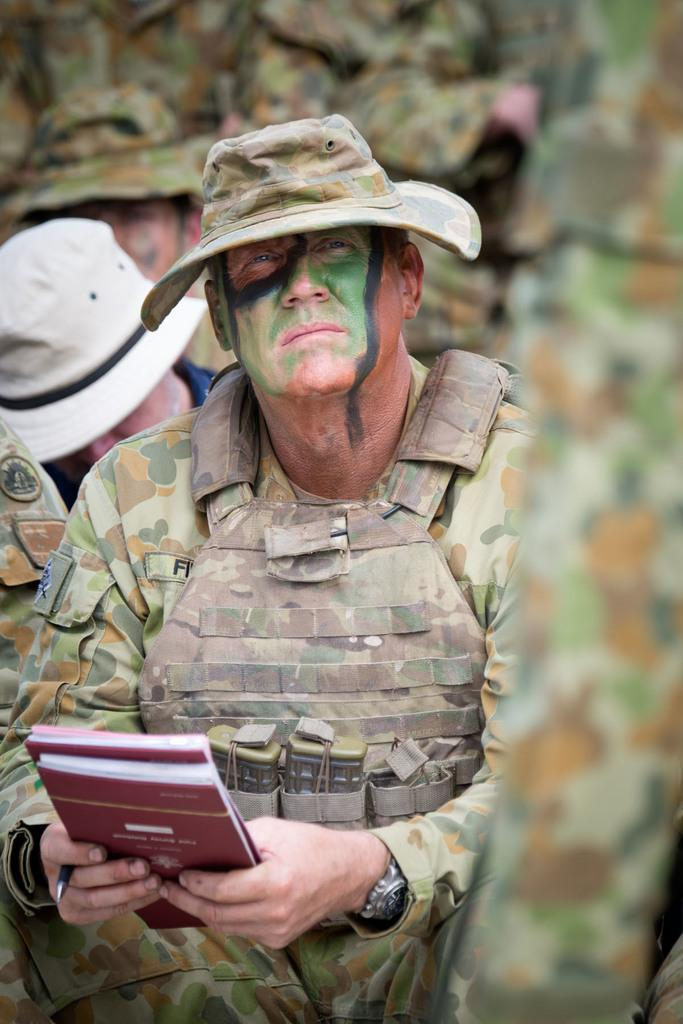Hat: (138, 109, 478, 330), (0, 216, 209, 461), (0, 88, 202, 225)
